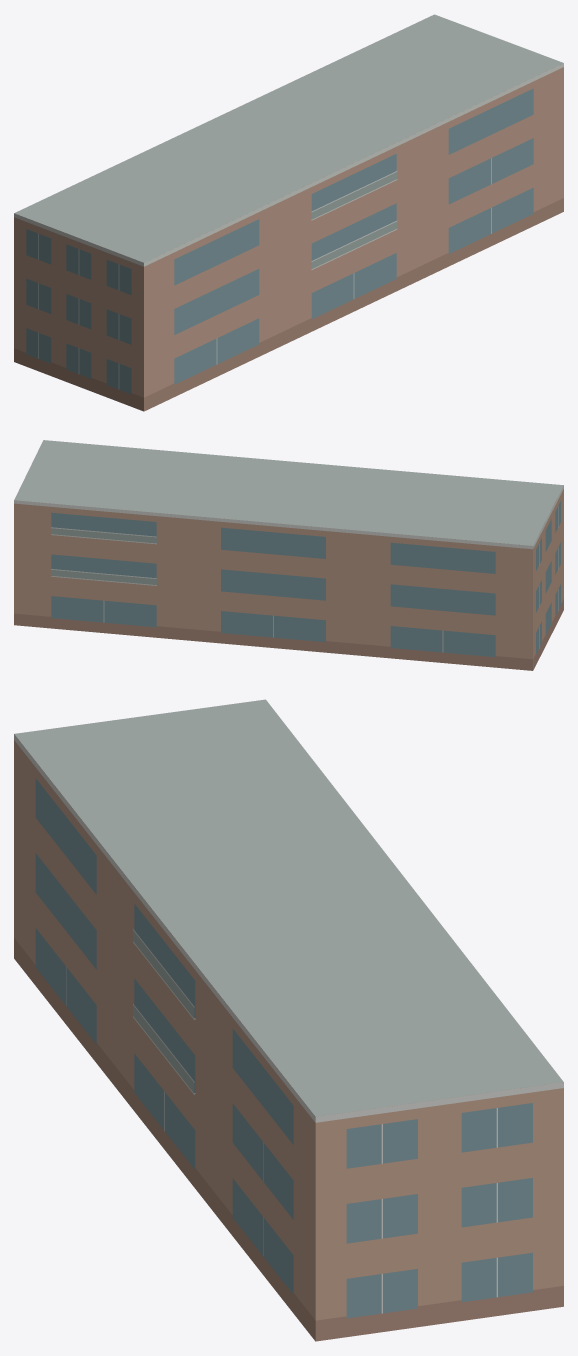
File: survey-upis-32752055.glb
3 views of the same model, one above another, from view 1: azimuth 30°, elevation 25°; view 2: azimuth 150°, elevation 25°; view 3: azimuth 270°, elevation 25° (orthographic). The views are drawn at different scales.
Visible parts, largest first — view 1: survey-upis-32752055.tmp; view 2: survey-upis-32752055.tmp; view 3: survey-upis-32752055.tmp.
Boxes of the visible parts, box(x1,y1,x2,y2) form: survey-upis-32752055.tmp: box(14, 14, 563, 411); survey-upis-32752055.tmp: box(14, 440, 563, 670); survey-upis-32752055.tmp: box(14, 699, 563, 1341).
Bounding box in the file's own units: 36.47 × 9.15 × 20.3.
